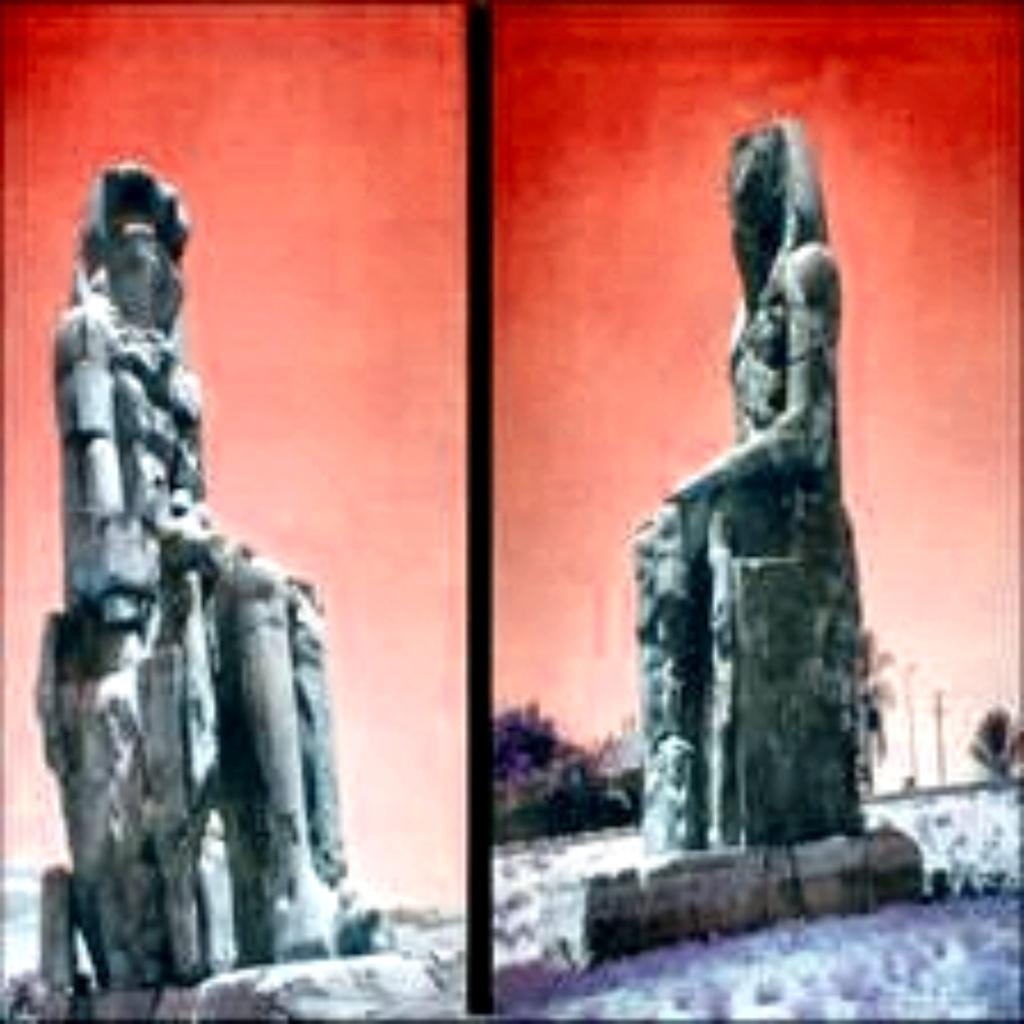Colossoi of Memnon: (22, 156, 388, 1002), (617, 114, 882, 860)
